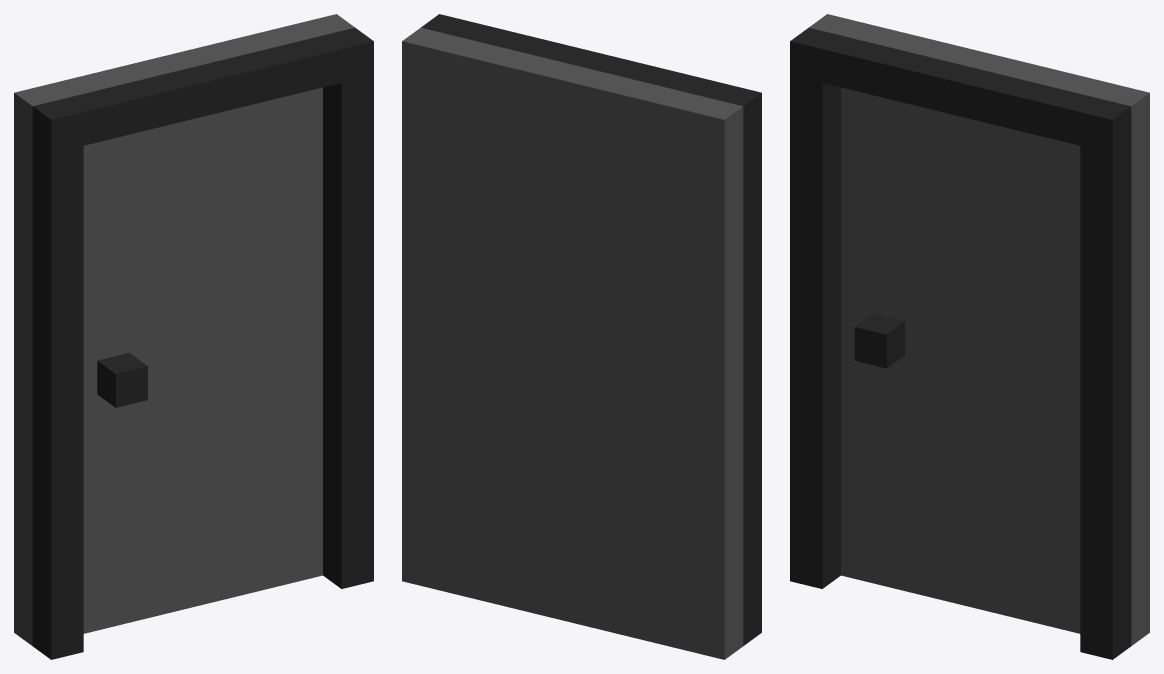
Rendered from Police Good-0-door.obj.
3 renders of one model, left to right at view 1: azimuth 30°, elevation 25°; view 2: azimuth 150°, elevation 25°; view 3: azimuth 330°, elevation 25°, orthographic.
Parts seen in each view (by area): view 1: door; view 2: door; view 3: door.
Part boxes in pixels (x1=…): door: x1=14, y1=14, x2=373, y2=659; door: x1=402, y1=14, x2=761, y2=659; door: x1=790, y1=14, x2=1149, y2=659.
Size of the model in its own units: 1 by 1.6 by 0.2.
